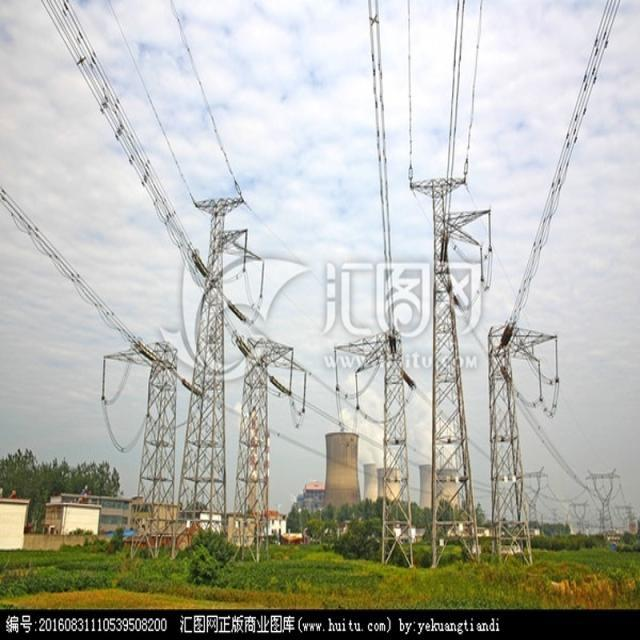non-critical vegetation: (402, 158, 492, 558), (174, 177, 242, 558), (334, 318, 426, 564), (478, 309, 566, 562), (118, 329, 178, 554), (236, 321, 290, 553), (504, 462, 552, 538), (588, 460, 622, 538), (564, 494, 594, 540)
